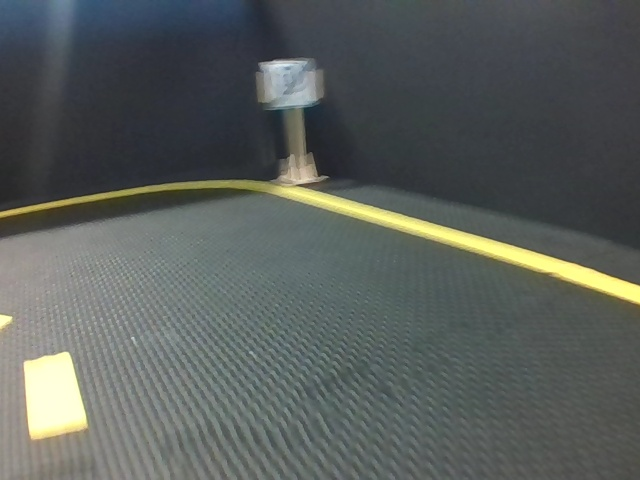no30: (265, 61, 314, 105)
